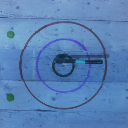Axe Tip: (54, 56, 66, 59)
